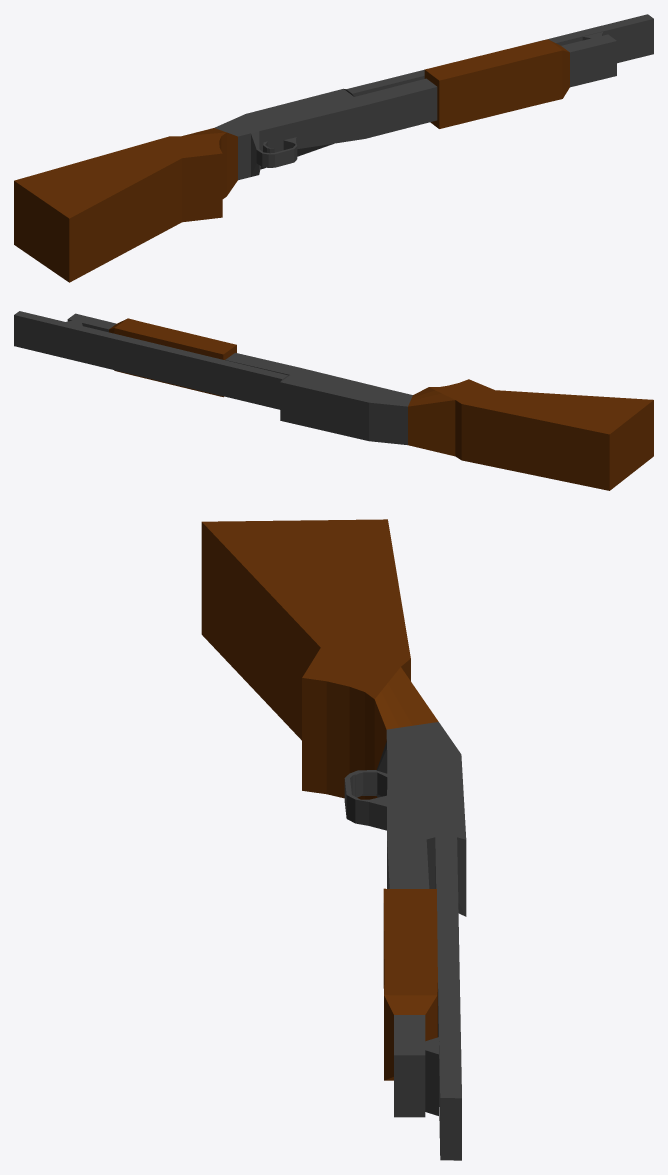
File: shotgun.fbx
3 renders of one model, top to bottom at view 1: azimuth 30°, elevation 25°; view 2: azimuth 150°, elevation 25°; view 3: azimuth 270°, elevation 25°, orthographic. The views are drawn at different scales.
Visible parts, largest first — view 1: Cube.001; view 2: Cube.001; view 3: Cube.001.
Boxes of the visible parts, x1,y1,x2,y2 form: Cube.001: (14, 14, 653, 282); Cube.001: (14, 311, 653, 490); Cube.001: (201, 519, 466, 1160).
Bounding box in the file's own units: 443 × 41.44 × 87.98.
